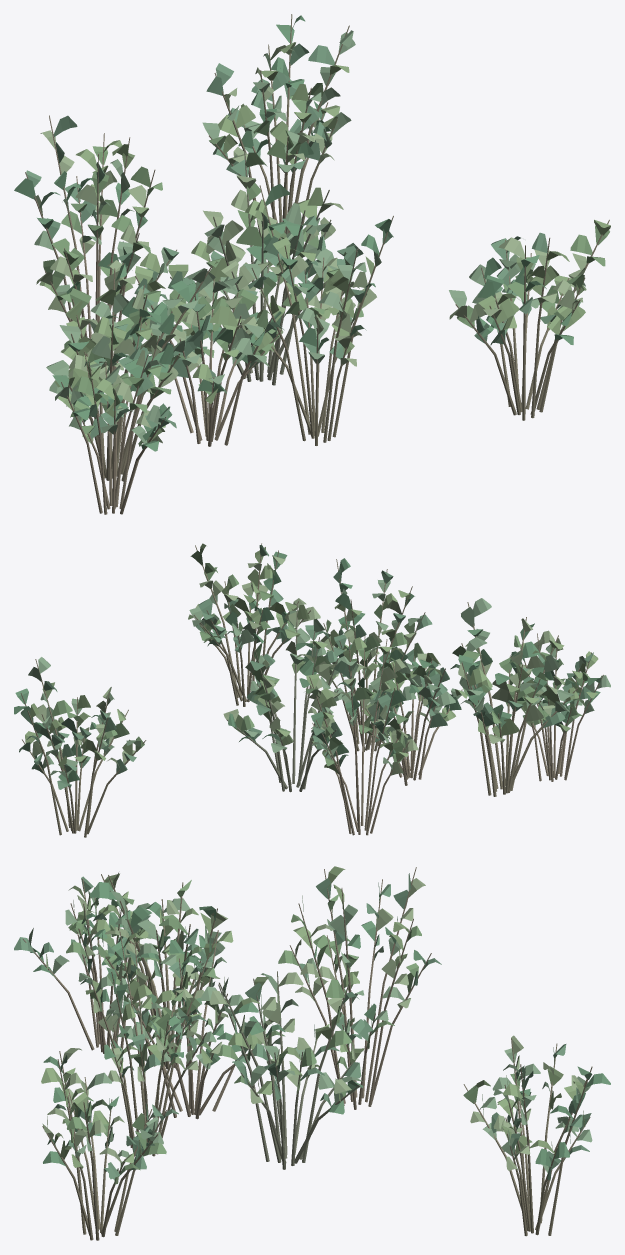
File: E07_VEG01_ARBUSTO_MEDIO_R3Z2_REV04.glb
3 renders of one model, top to bottom at view 1: azimuth 30°, elevation 25°; view 2: azimuth 150°, elevation 25°; view 3: azimuth 270°, elevation 25°, orthographic. The views are drawn at different scales.
Visible parts, largest first — view 1: world; view 2: world; view 3: world.
Boxes of the visible parts, x1,y1,x2,y2 form: world: (14, 14, 610, 514); world: (14, 543, 610, 837); world: (14, 866, 610, 1240).
Size of the model in its own units: 1.19 by 0.5072 by 1.2.
